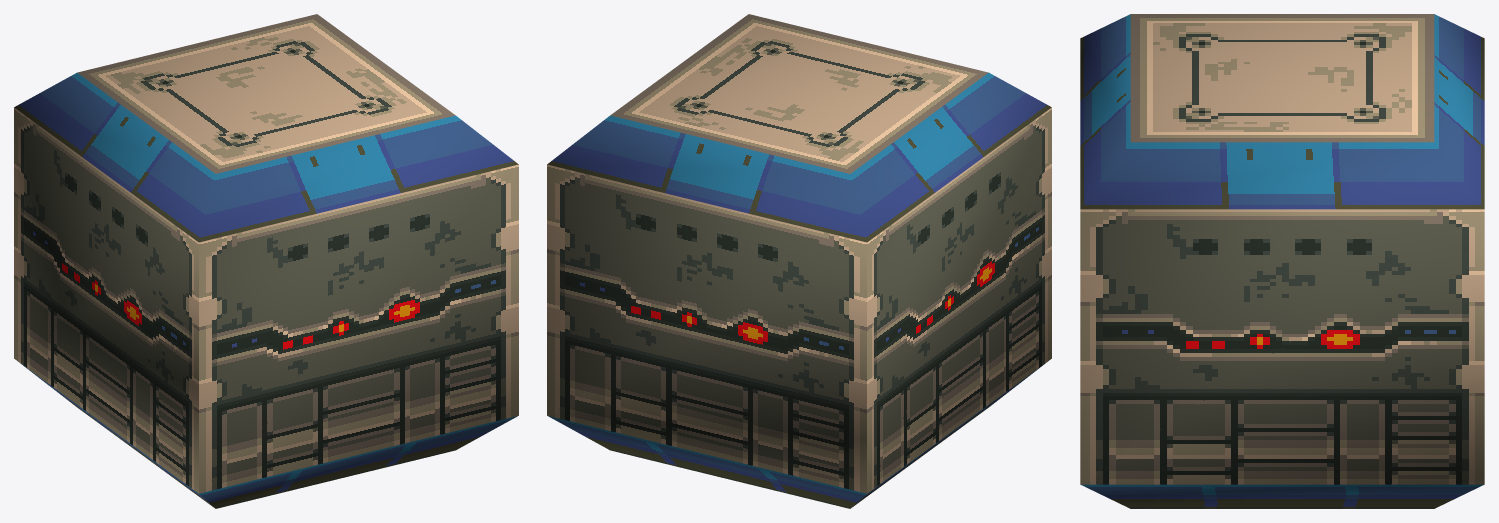
3 views of the same model, side by side, from view 1: azimuth 30°, elevation 25°; view 2: azimuth 150°, elevation 25°; view 3: azimuth 270°, elevation 25° (orthographic). The views are drawn at different scales.
Parts seen in each view (by area): view 1: nodes_0__028Baked; view 2: nodes_0__028Baked; view 3: nodes_0__028Baked.
Boxes of the visible parts, left/top/right/bottom form: nodes_0__028Baked: left=14, top=14, right=518, bottom=508; nodes_0__028Baked: left=547, top=14, right=1051, bottom=508; nodes_0__028Baked: left=1080, top=14, right=1484, bottom=508.
Bounding box in the file's own units: 2.56 × 2.56 × 2.56.
Materials: 1 (1 with a texture image).
